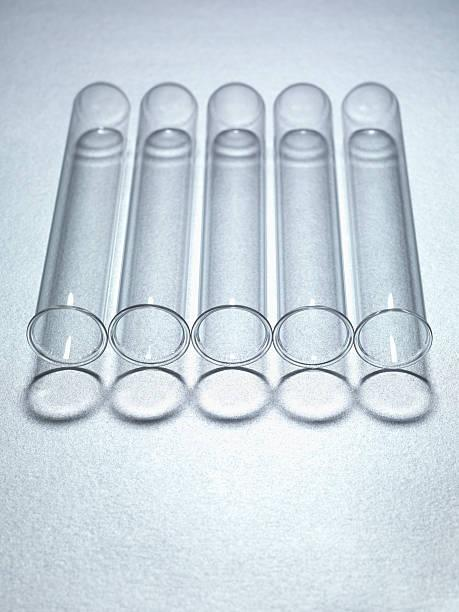Test tube: (29, 66, 437, 387)
